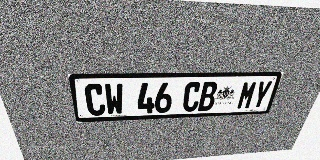4: (138, 83, 155, 114)
6: (155, 82, 173, 113)
B: (198, 82, 218, 111)
C: (84, 84, 106, 116), (182, 82, 202, 112)
M: (236, 81, 258, 109)
W: (104, 83, 124, 115)
Y: (250, 81, 273, 109)
